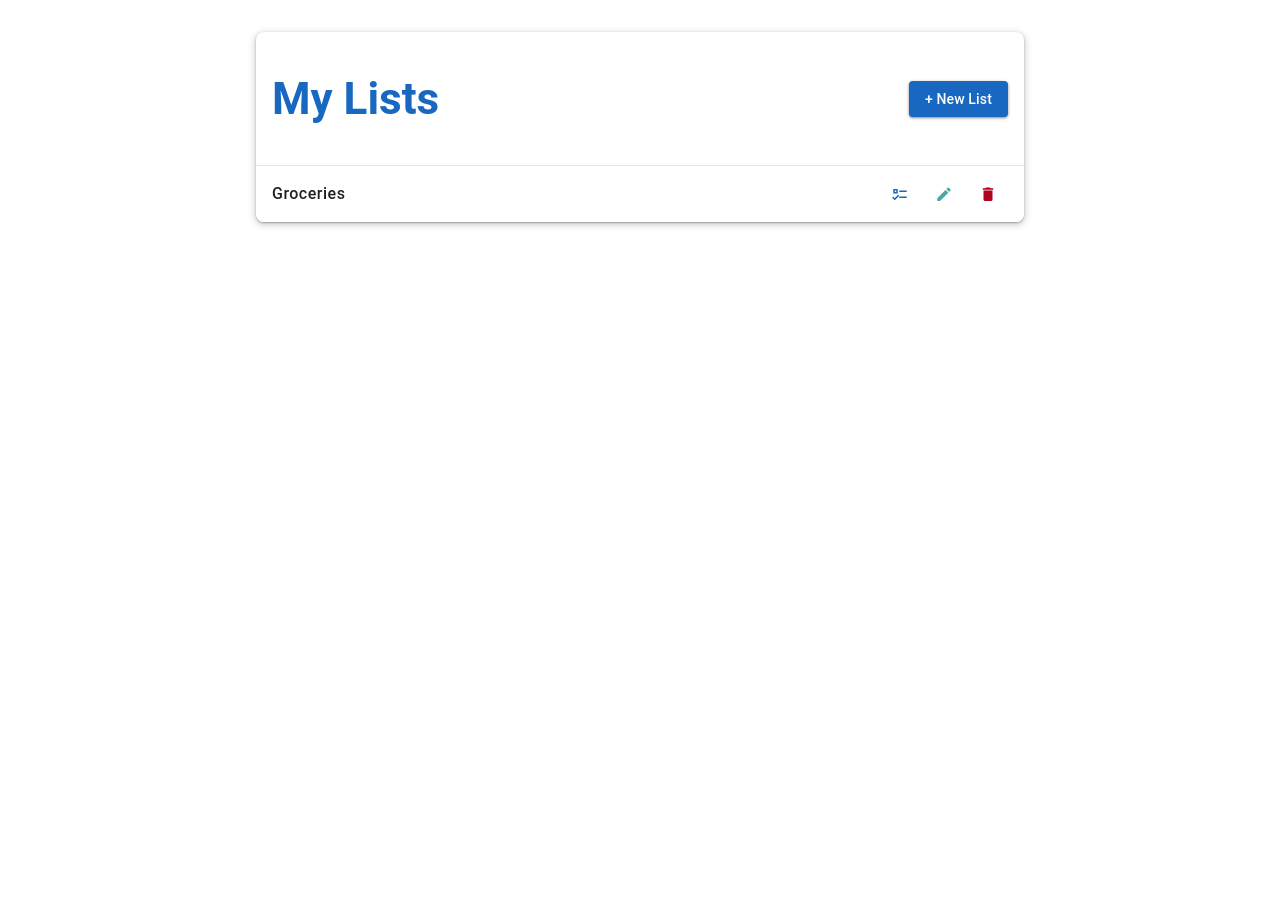
Feature 2 — Todo List Management › US-2.4 — Rename and delete lists › User deletes a list
// Click Delete icon
What coordinates should you click on to do the following:
click the button named "Delete list"
I would click on:
 (988, 194)
Its box is [968,174,1008,214].
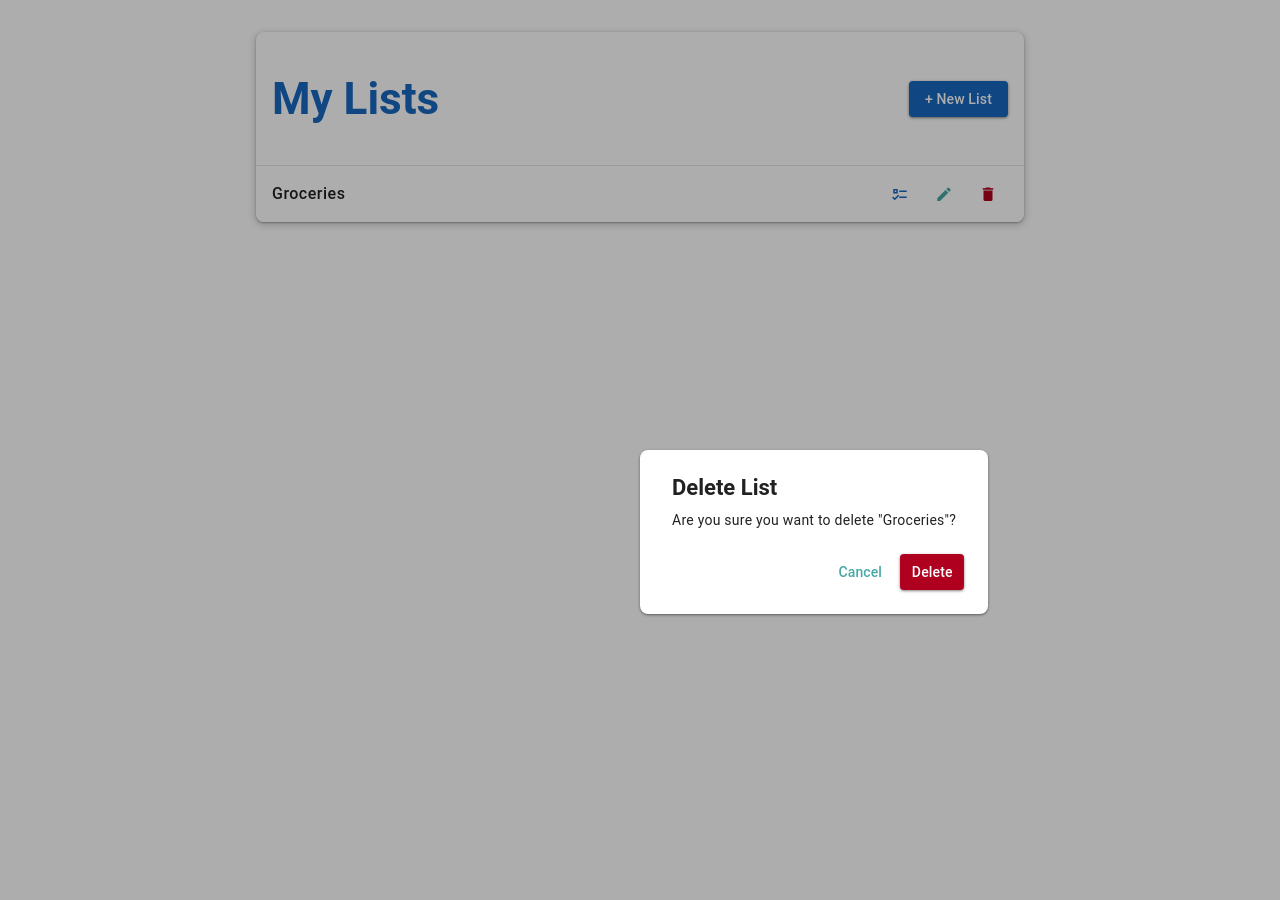
Expected: the dialog is shown
Expected: the button "Delete" is shown
What coordinates should you click on to do the following:
click the button "Delete"
I would click on:
 (932, 572)
Its box is [900,554,964,590].
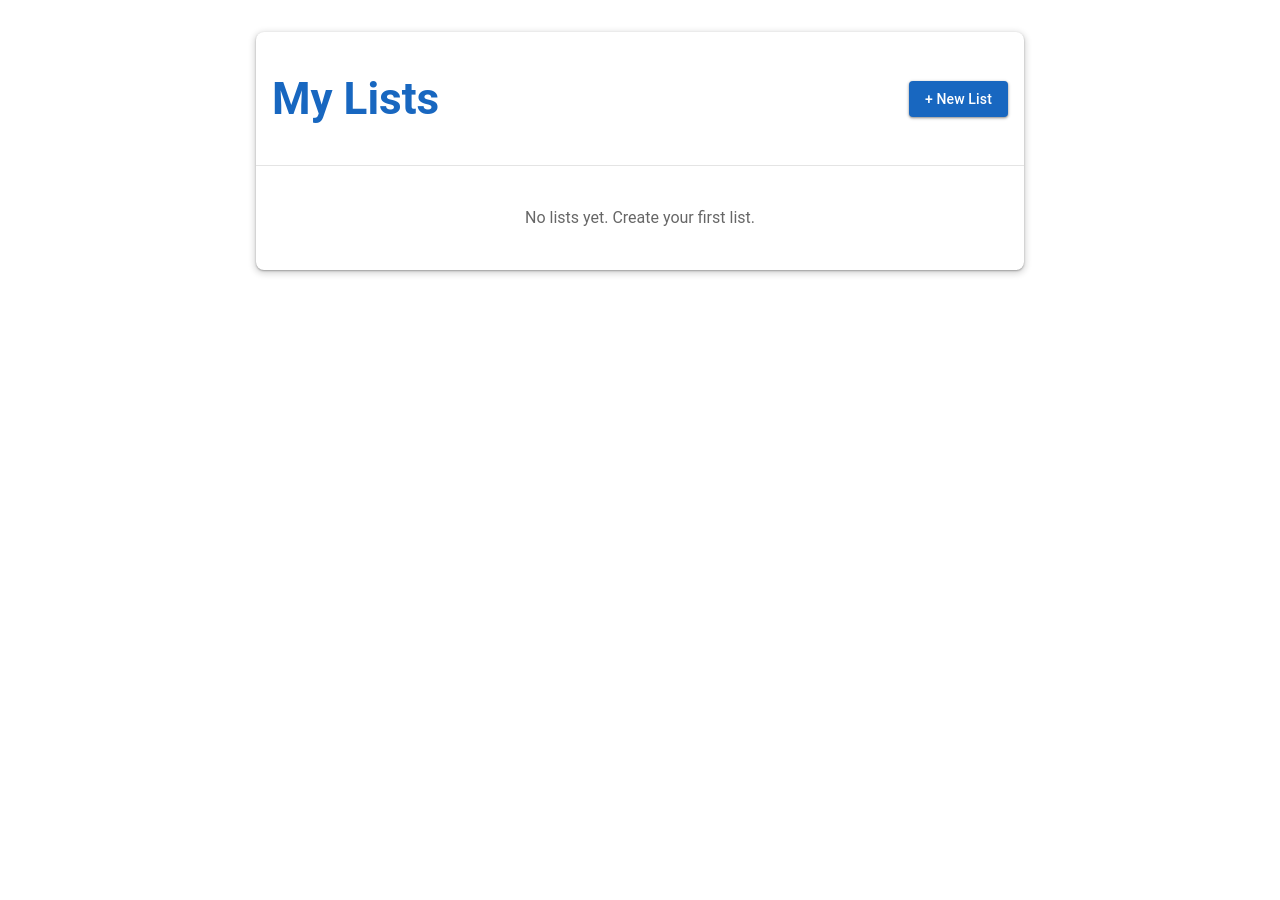
Expected: the text "Groceries" is gone
